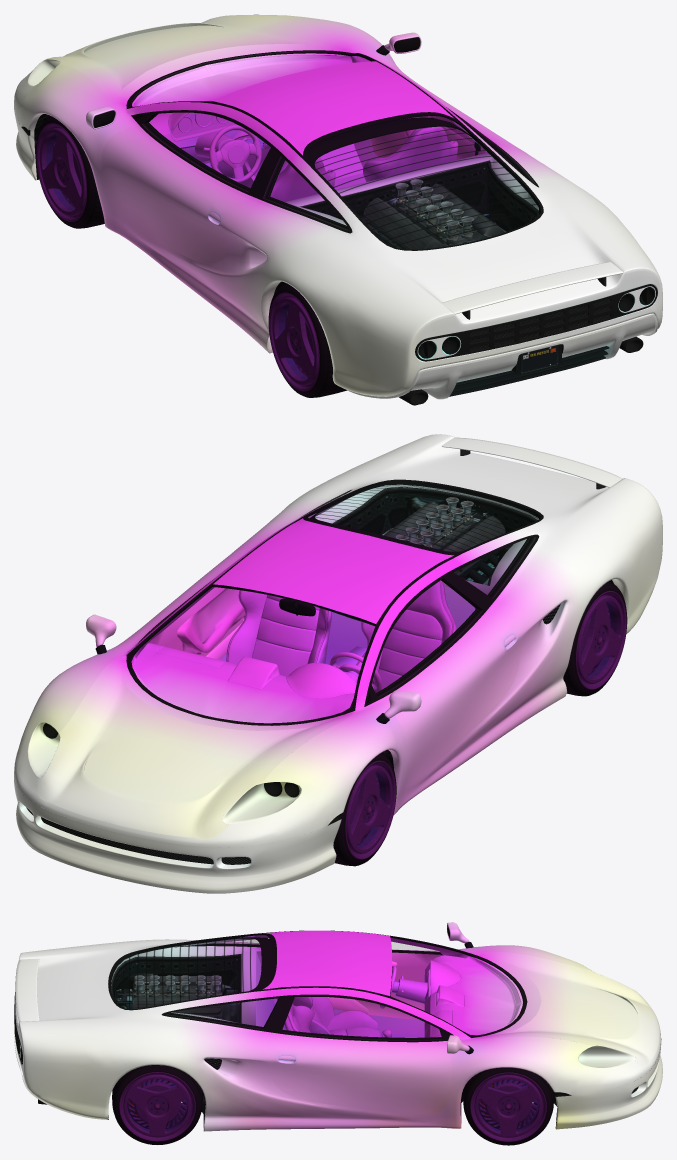
File: penetrator.glb
3 renders of one model, top to bottom at view 1: azimuth 30°, elevation 25°; view 2: azimuth 150°, elevation 25°; view 3: azimuth 270°, elevation 25°, orthographic. The views are drawn at different scales.
Visible parts, largest first — view 1: bodyshell, chassis, windscreen_r, door_dside_f, misc_e, misc_b, wheel_lr, window_lf, wheel_lf, misc_g, misc_a, misc_d (+5 smaller); view 2: bodyshell, chassis, misc_e, misc_f, door_dside_f, windscreen_r, window_lf, door_pside_f, wheel_lr, wheel_lf, misc_a, misc_d (+2 smaller); view 3: bodyshell, chassis, door_pside_f, misc_e, windscreen_r, wheel_rr, wheel_rf, window_rf, misc_f, door_dside_f, window_rr, misc_d (+2 smaller).
Part boxes in pixels (left/top/right/bottom): bodyshell: left=14, top=14, right=662, bottom=396; chassis: left=131, top=51, right=538, bottom=249; windscreen_r: left=309, top=116, right=539, bottom=248; door_dside_f: left=101, top=122, right=250, bottom=263; misc_e: left=46, top=15, right=353, bottom=108; misc_b: left=343, top=313, right=657, bottom=399; wheel_lr: left=268, top=283, right=346, bottom=397; window_lf: left=145, top=113, right=269, bottom=189; wheel_lf: left=36, top=115, right=104, bottom=228; misc_g: left=363, top=183, right=504, bottom=249; misc_a: left=442, top=262, right=622, bottom=319; misc_d: left=392, top=179, right=476, bottom=245; bodyshell: left=14, top=434, right=662, bottom=847; chassis: left=131, top=484, right=538, bottom=723; misc_e: left=36, top=655, right=354, bottom=839; misc_f: left=14, top=778, right=341, bottom=893; door_dside_f: left=376, top=609, right=523, bottom=787; windscreen_r: left=315, top=483, right=538, bottom=551; window_lf: left=372, top=580, right=479, bottom=695; door_pside_f: left=114, top=552, right=245, bottom=659; wheel_lr: left=563, top=581, right=627, bottom=696; wheel_lf: left=333, top=753, right=396, bottom=866; misc_a: left=441, top=437, right=622, bottom=489; misc_d: left=395, top=497, right=476, bottom=548; bodyshell: left=14, top=922, right=660, bottom=1131; chassis: left=111, top=935, right=524, bottom=1037; door_pside_f: left=268, top=1029, right=451, bottom=1114; misc_e: left=472, top=951, right=659, bottom=1065; windscreen_r: left=111, top=936, right=269, bottom=1009; wheel_rr: left=112, top=1065, right=202, bottom=1144; wheel_rf: left=463, top=1067, right=553, bottom=1145; window_rf: left=282, top=997, right=440, bottom=1038; misc_f: left=555, top=1038, right=662, bottom=1129; door_dside_f: left=327, top=949, right=443, bottom=1019; window_rr: left=168, top=999, right=277, bottom=1027; misc_d: left=133, top=975, right=222, bottom=998.
Size of the model in its own units: 2.15 by 1.12 by 4.82.
Materials: 15 (10 with a texture image).
